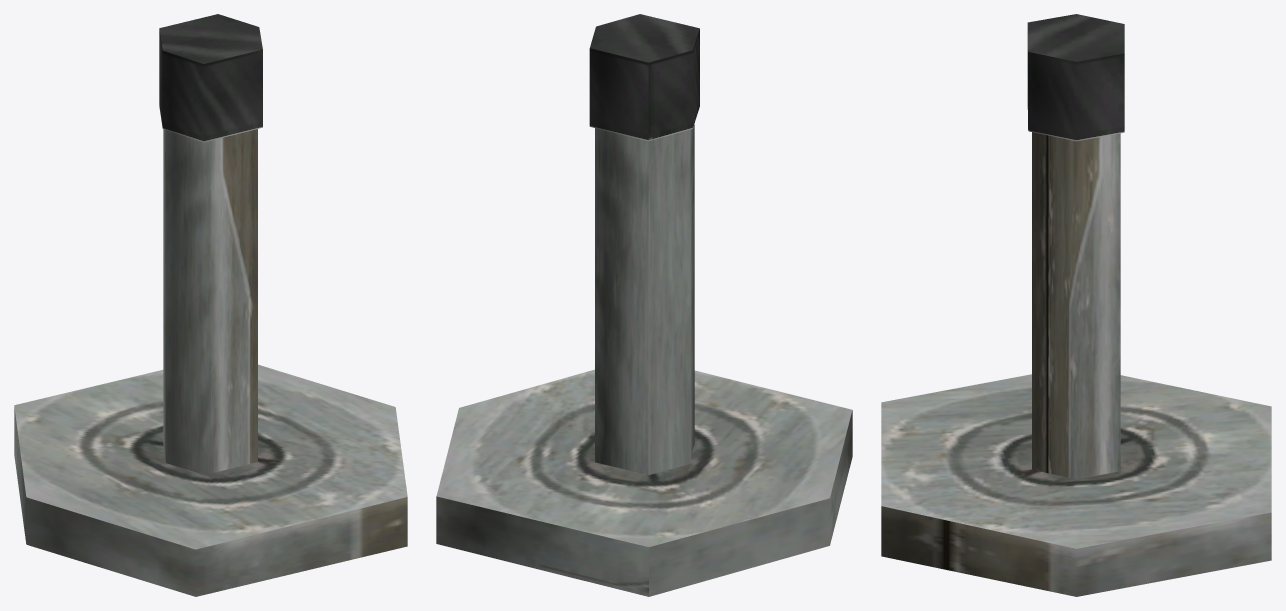
Rendered from frn_all_glow_lamp_l1.fbx.
The picture shows the model from 3 angles, left to right: view 1: azimuth 30°, elevation 25°; view 2: azimuth 150°, elevation 25°; view 3: azimuth 270°, elevation 25°; orthographic projection.
Visible parts, largest first — view 1: mesh_node; view 2: mesh_node; view 3: mesh_node.
Boxes of the visible parts, box(x1,y1,x2,y2) form: mesh_node: box(14, 14, 407, 596); mesh_node: box(436, 14, 852, 596); mesh_node: box(881, 14, 1271, 596).
Size of the model in its own units: 0.108 by 0.129 by 0.0974.
